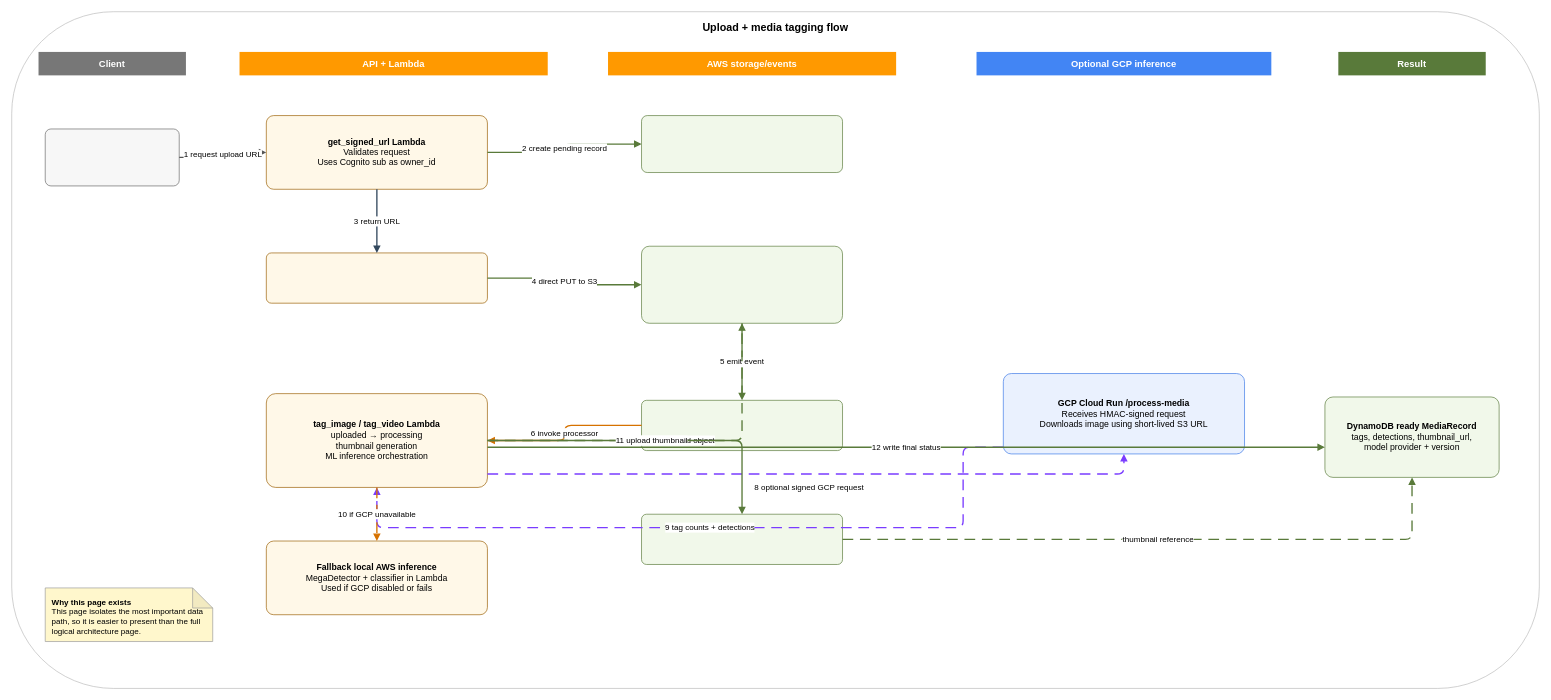
Image size: 1551x700. Some labels were removed from this diagram. Here are the shapes that lost their labels. From the top down, the box of each, then its label:
(45, 128, 179, 186): React frontend Authenticated user selects image/video
(641, 115, 843, 173): DynamoDB pending MediaRecord status = pending
(266, 252, 487, 303): Presigned S3 PUT URL Returned to frontend
(641, 246, 843, 323): S3 object images/ or videos/ metadata: file_name, checksum, owner_id
(641, 400, 843, 451): S3 ObjectCreated event prefix routing
(641, 514, 843, 564): S3 thumbnail thumbnails/
